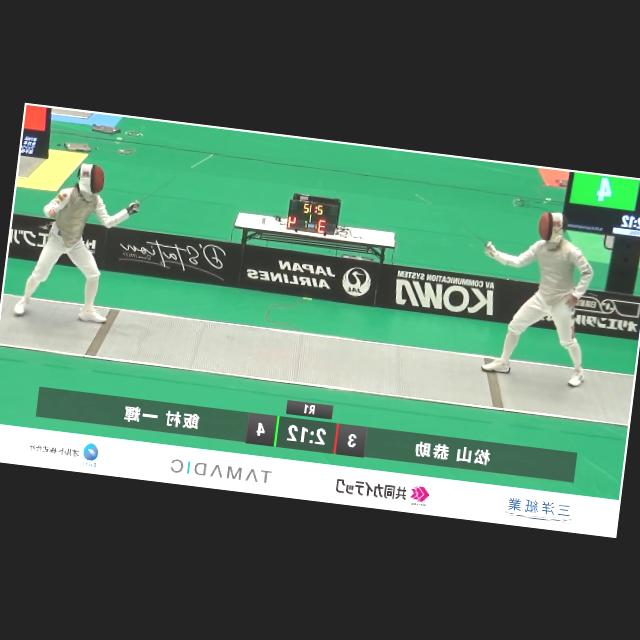blade: (130, 141, 220, 220), (401, 188, 499, 252)
